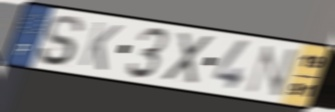3: (126, 26, 170, 81)
4: (210, 37, 253, 94)
K: (76, 19, 124, 73)
N: (243, 43, 301, 99)
S: (36, 14, 87, 68)
X: (161, 30, 216, 86)
